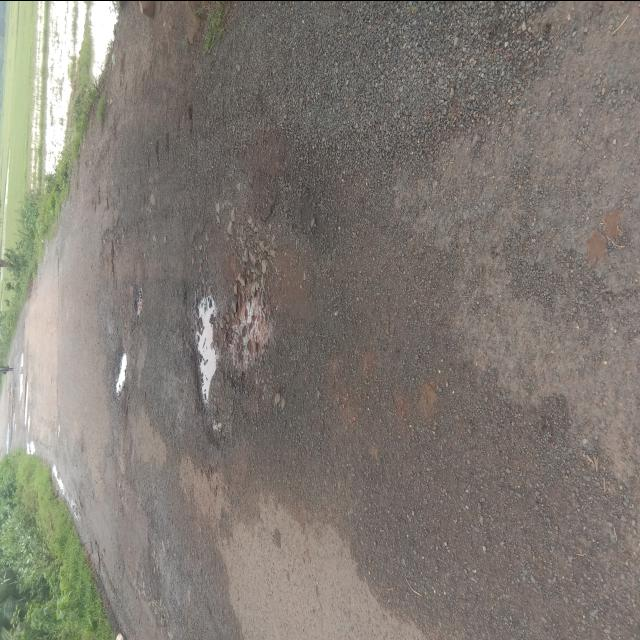potholes: (184, 274, 278, 431), (113, 344, 133, 400), (130, 275, 152, 319)
